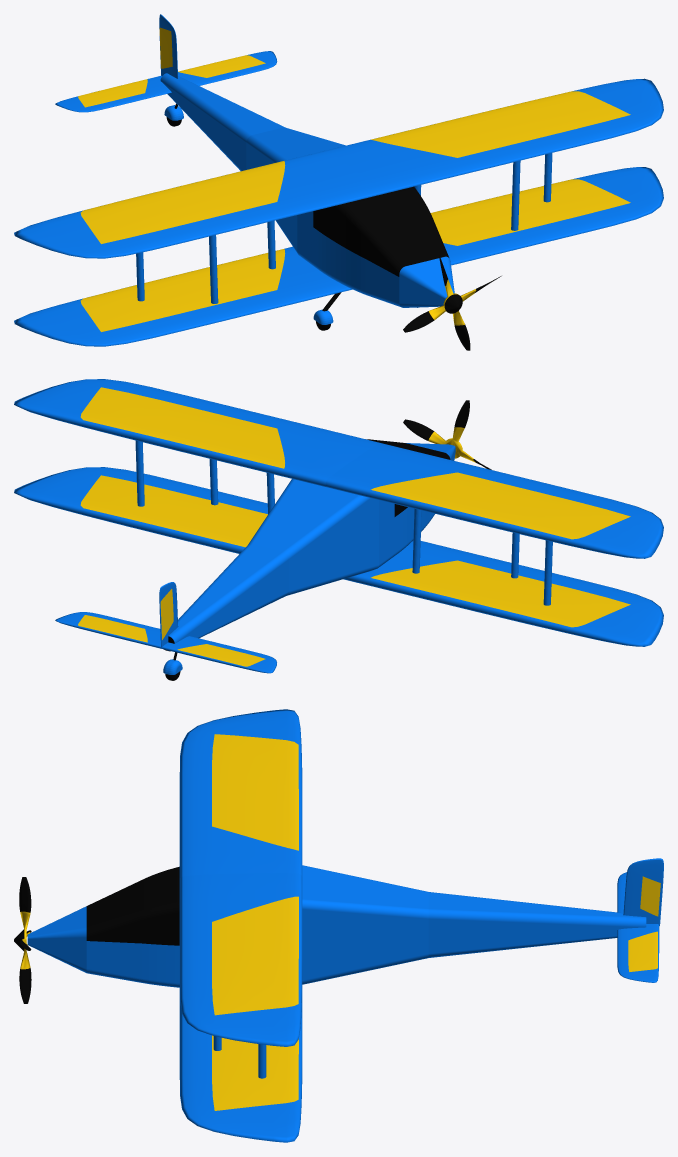
The picture shows the model from 3 angles, top to bottom: view 1: azimuth 30°, elevation 25°; view 2: azimuth 150°, elevation 25°; view 3: azimuth 270°, elevation 25°; orthographic projection. The views are drawn at different scales.
Parts seen in each view (by area): view 1: Cube.009, Cube.054, Cube.053, Cube.056, Cube.055, Cube.057, Cube.058, Cube.060, Cube.059, Cube.062, Cube.065; view 2: Cube.009, Cube.054, Cube.053, Cube.056, Cube.055, Cube.057, Cube.058, Cube.060, Cube.059, Cube.061, Cube.066, Cube.064; view 3: Cube.009, Cube.053, Cube.054, Cube.055, Cube.058, Cube.059, Cube.060.
Boxes of the visible parts, x1,y1,x2,y2 form: Cube.009: (160, 73, 454, 307); Cube.054: (14, 150, 381, 258); Cube.053: (328, 78, 663, 194); Cube.056: (14, 246, 352, 346); Cube.055: (430, 167, 663, 265); Cube.057: (55, 75, 171, 112); Cube.058: (178, 51, 277, 85); Cube.060: (403, 255, 501, 350); Cube.059: (159, 14, 178, 78); Cube.062: (511, 160, 520, 230); Cube.065: (209, 235, 218, 303); Cube.009: (164, 439, 455, 651); Cube.054: (325, 443, 663, 558); Cube.053: (14, 379, 379, 486); Cube.056: (343, 541, 663, 646); Cube.055: (14, 467, 267, 553); Cube.057: (162, 636, 276, 673); Cube.058: (55, 612, 160, 648); Cube.060: (403, 400, 491, 469); Cube.059: (159, 582, 178, 648); Cube.061: (135, 440, 144, 506); Cube.066: (543, 540, 552, 605); Cube.064: (412, 508, 421, 573); Cube.009: (27, 865, 646, 987); Cube.053: (179, 873, 302, 1046); Cube.054: (179, 709, 302, 877); Cube.055: (179, 988, 302, 1142); Cube.058: (617, 924, 659, 982); Cube.059: (623, 858, 663, 925); Cube.060: (14, 877, 31, 1003).
Bounding box in the file's own units: 2493 × 564 × 2027.
